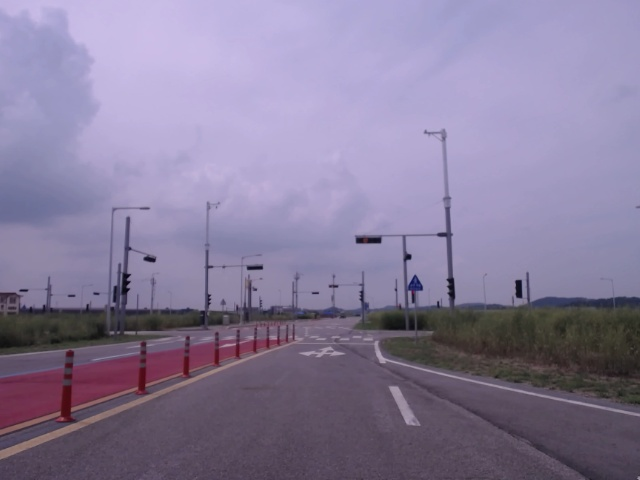orange_4: (352, 236, 384, 243), (327, 283, 340, 289)
